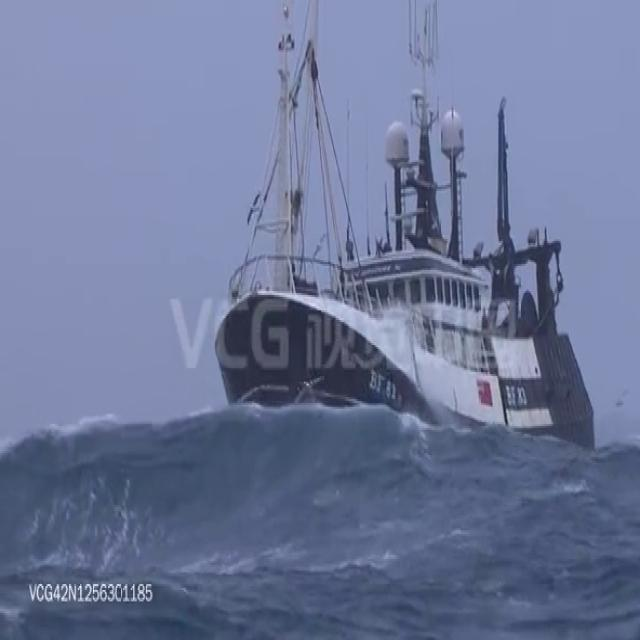houseboat: (215, 0, 604, 463)
